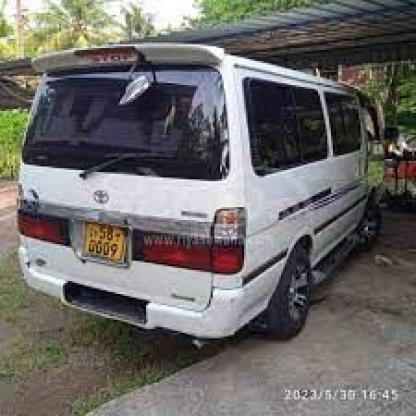number plate: (84, 221, 126, 260)
van back: (12, 40, 383, 347)
